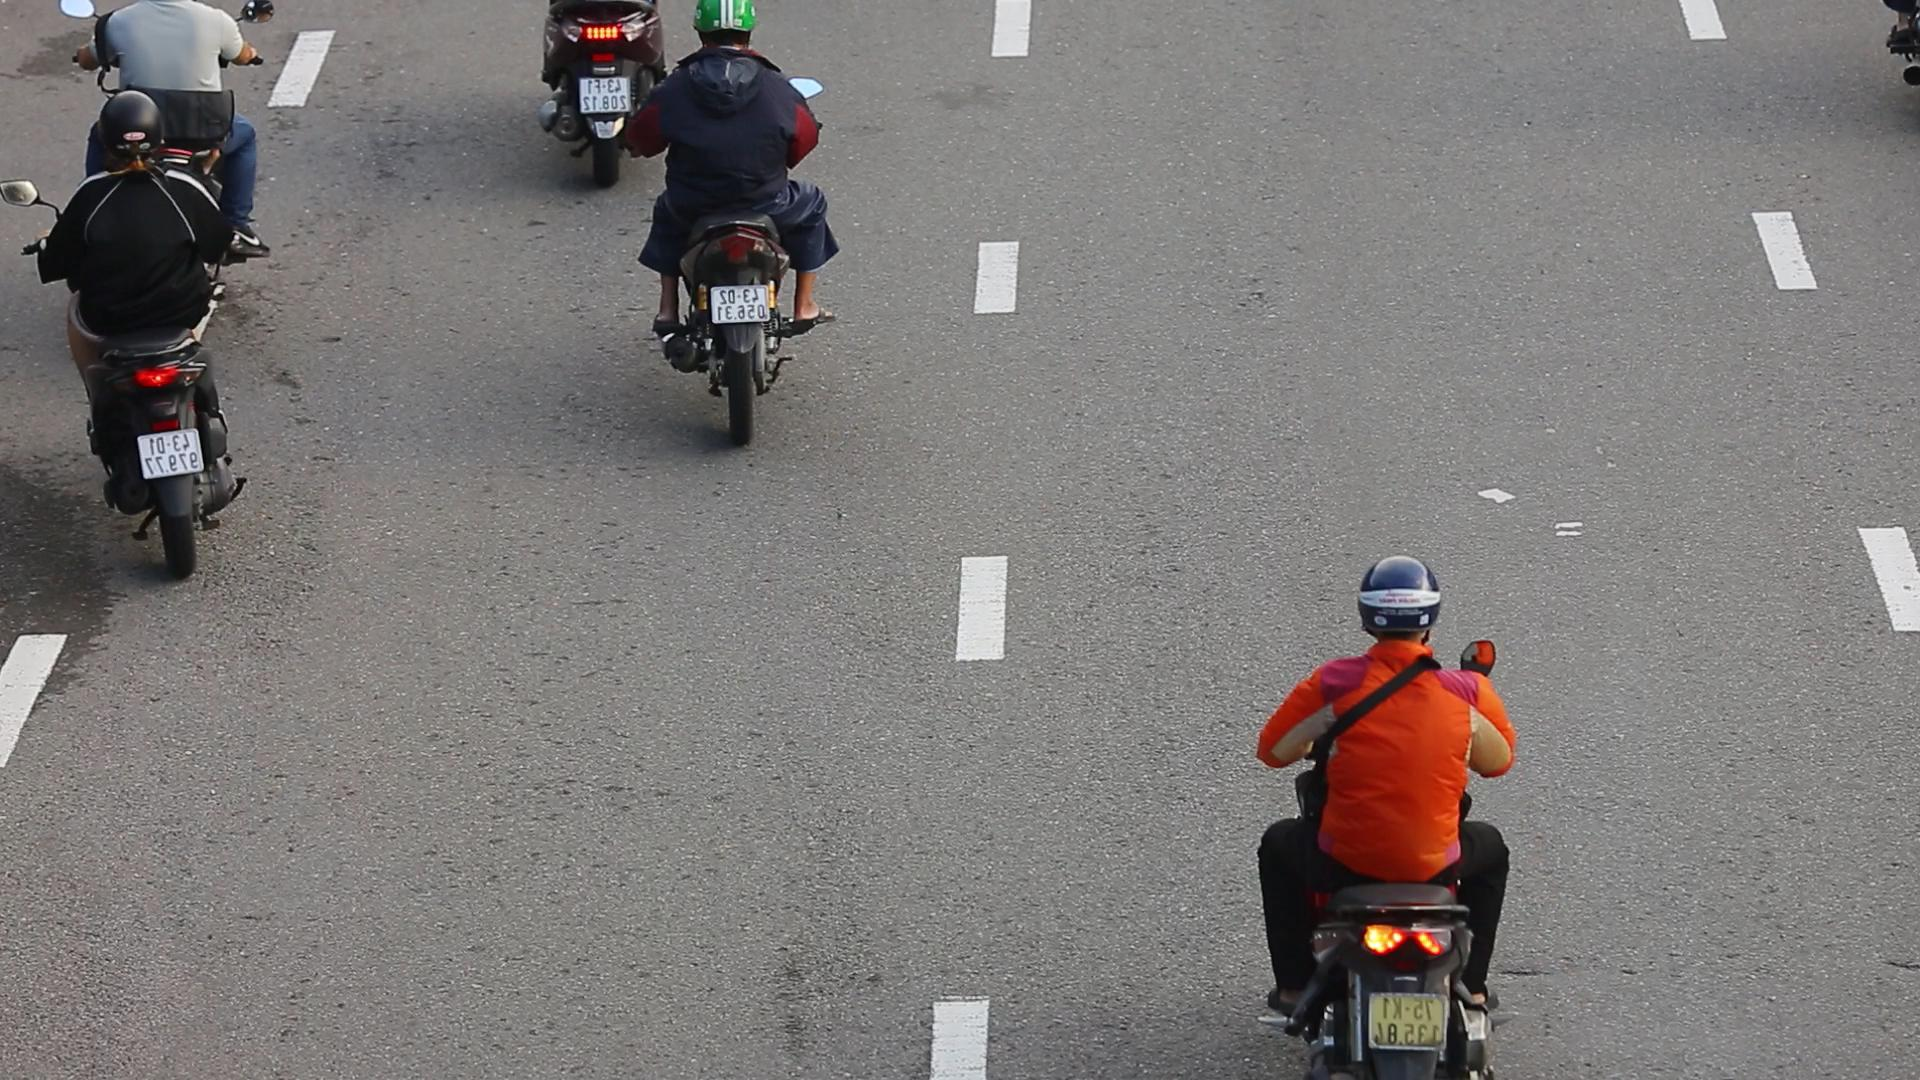motobike: (1246, 542, 1526, 1079), (0, 84, 247, 585), (612, 0, 860, 476)
